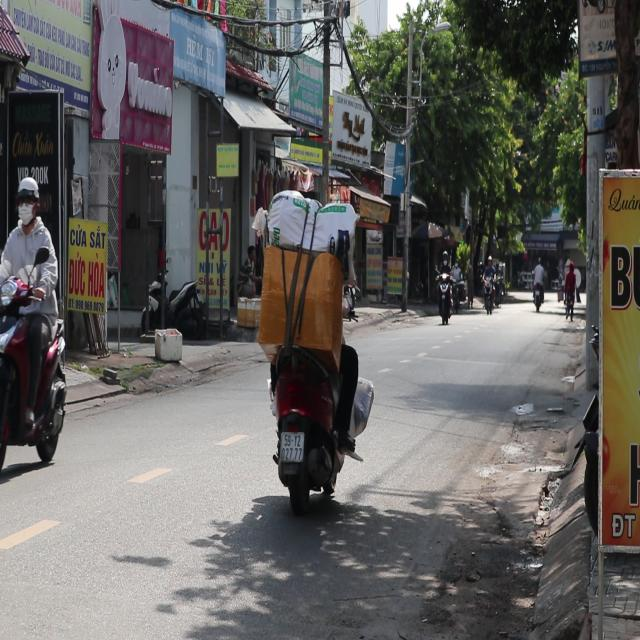helmet: (15, 175, 40, 226)
licenseplate: (255, 174, 362, 513), (0, 170, 71, 481)
nohelmet: (280, 430, 303, 460)
